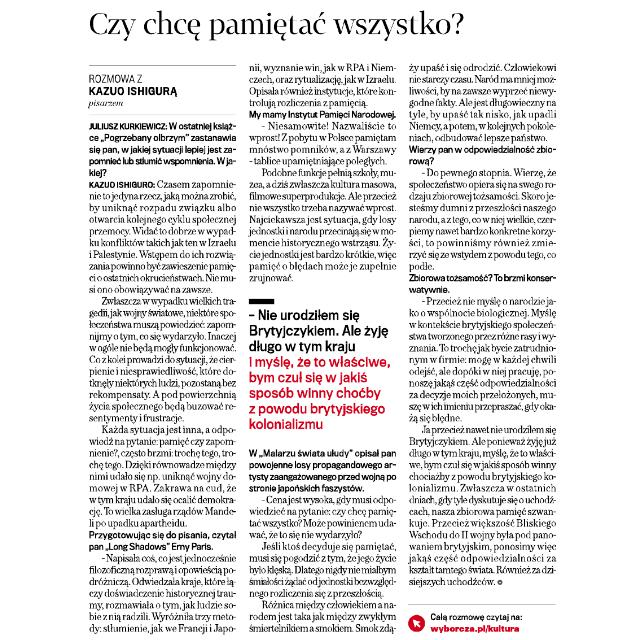body: (404, 59, 558, 590), (86, 180, 242, 636), (244, 61, 400, 285), (247, 445, 401, 635), (245, 294, 393, 434)
lead: (86, 69, 240, 177)
title: (86, 6, 474, 50)
